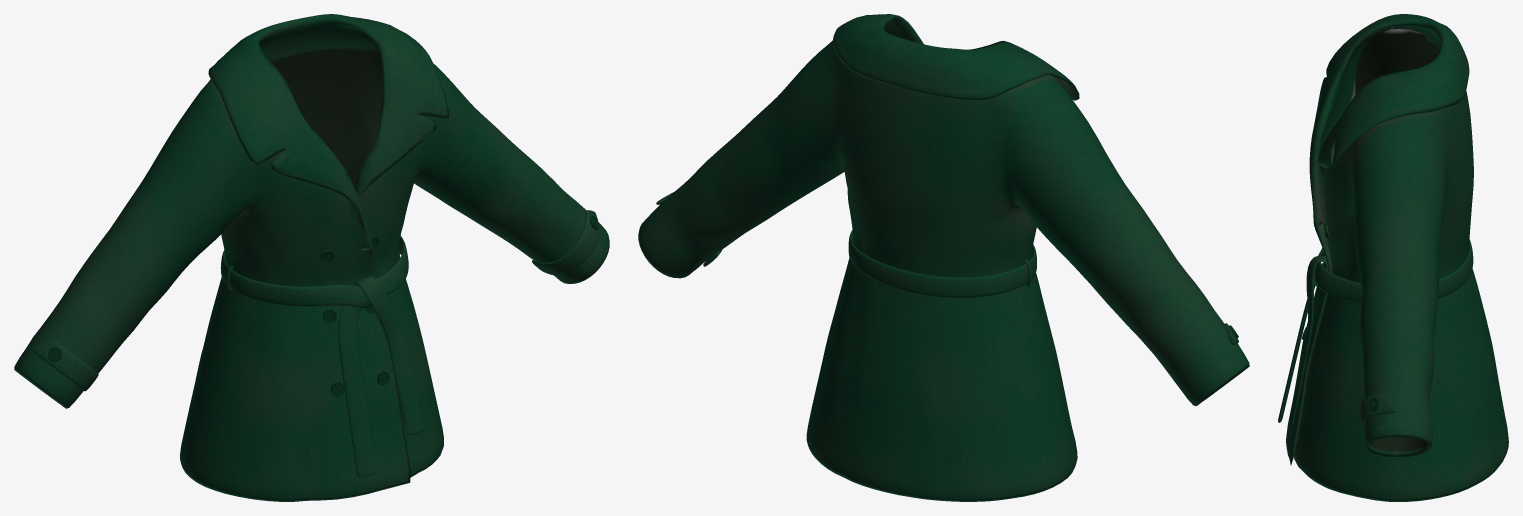
3 views of the same model, side by side, from view 1: azimuth 30°, elevation 25°; view 2: azimuth 150°, elevation 25°; view 3: azimuth 270°, elevation 25° (orthographic). The views are drawn at different scales.
Parts seen in each view (by area): view 1: Coat_low, Belt, Cuffs, Buttons; view 2: Coat_low, Belt; view 3: Coat_low, Belt, Cuffs.
Part boxes in pixels (x1,y1,x2,y2): Coat_low: [14, 14, 609, 501]; Belt: [220, 236, 424, 476]; Cuffs: [32, 210, 599, 391]; Buttons: [48, 216, 598, 396]; Coat_low: [638, 14, 1249, 501]; Belt: [848, 230, 1036, 297]; Coat_low: [1286, 14, 1508, 501]; Belt: [1278, 239, 1473, 426]; Cuffs: [1360, 393, 1395, 428].
Bounding box in the file's own units: 1.2 × 0.8127 × 0.419.
1 material, 1 textured.
